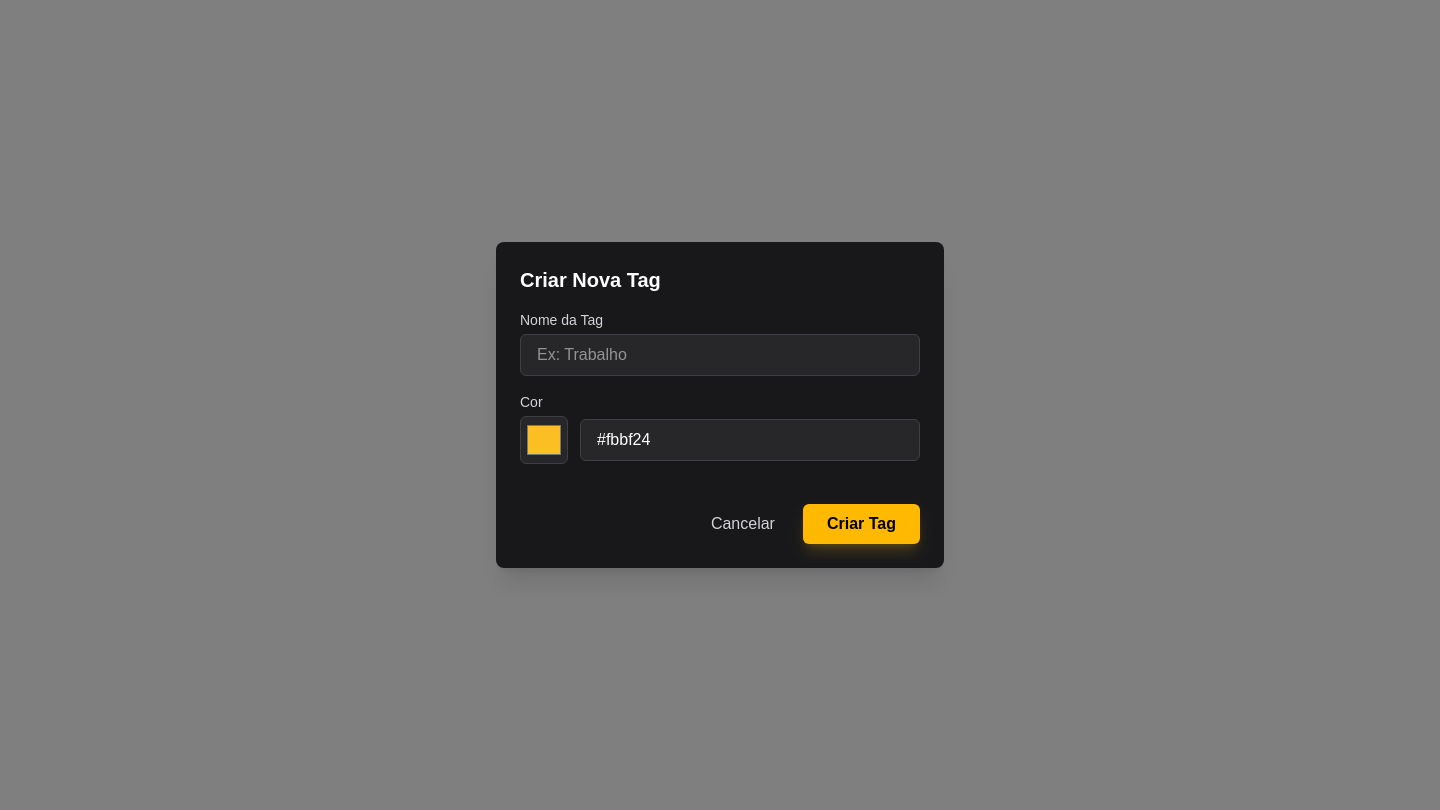
Test case: RF4 - Criar Tag (Frontend) › deve exibir mensagem de erro para campos inválidos (400)
Click the button "Criar Tag" at (861, 524), box [803,504,920,544]
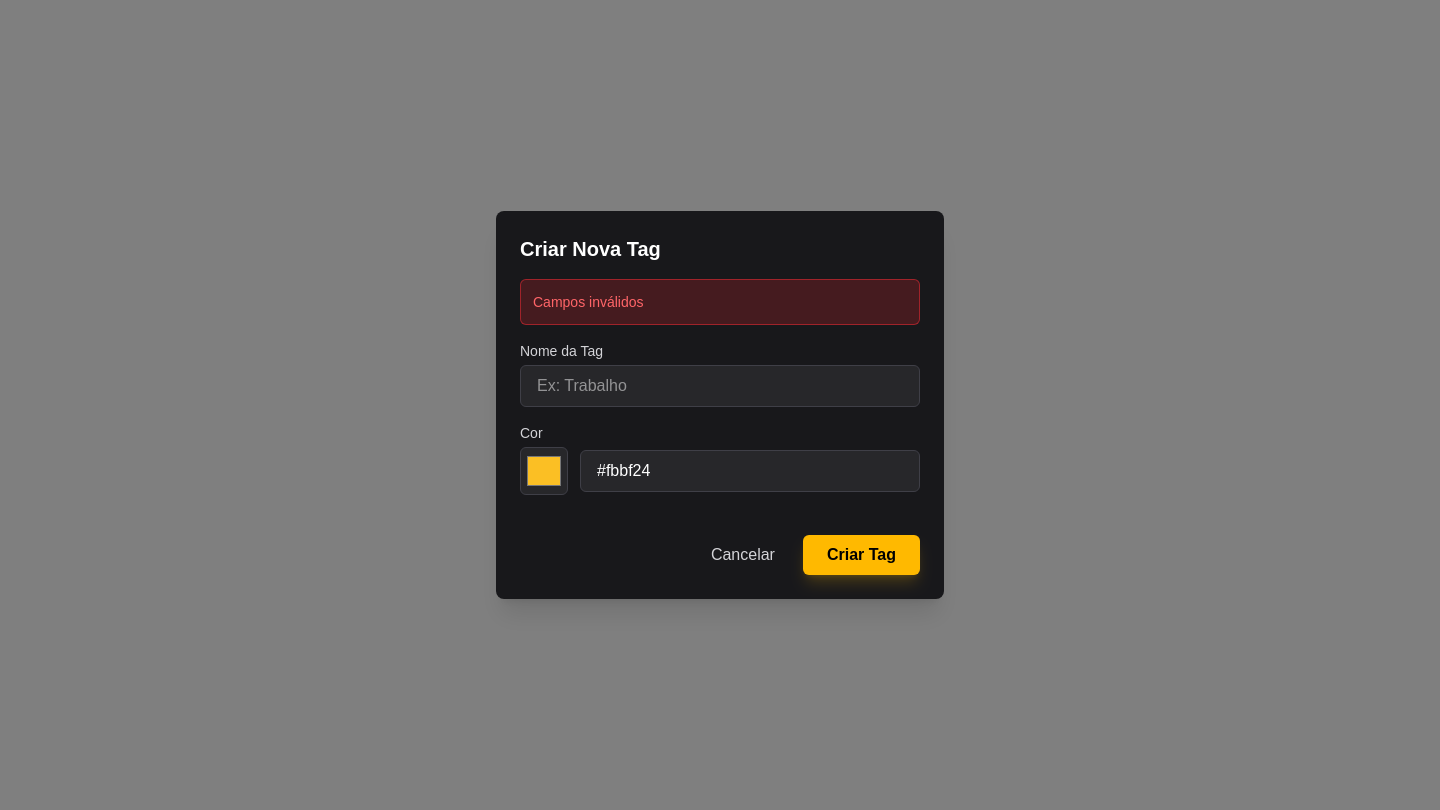
Expected: the text "Campos inválidos" is shown, [520,279,920,325]
